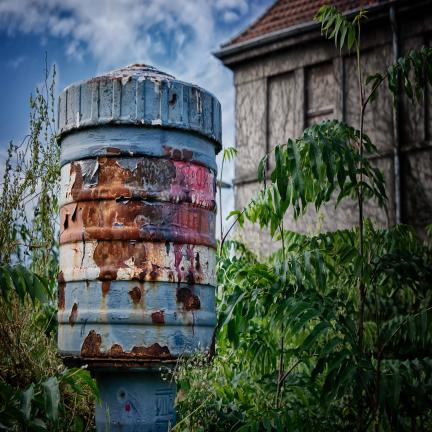karat: (66, 156, 146, 292), (81, 330, 170, 358), (125, 158, 176, 192), (136, 146, 194, 161), (137, 205, 163, 225), (177, 288, 200, 310), (58, 283, 65, 310), (152, 311, 165, 324), (69, 304, 77, 324), (169, 94, 176, 104)
